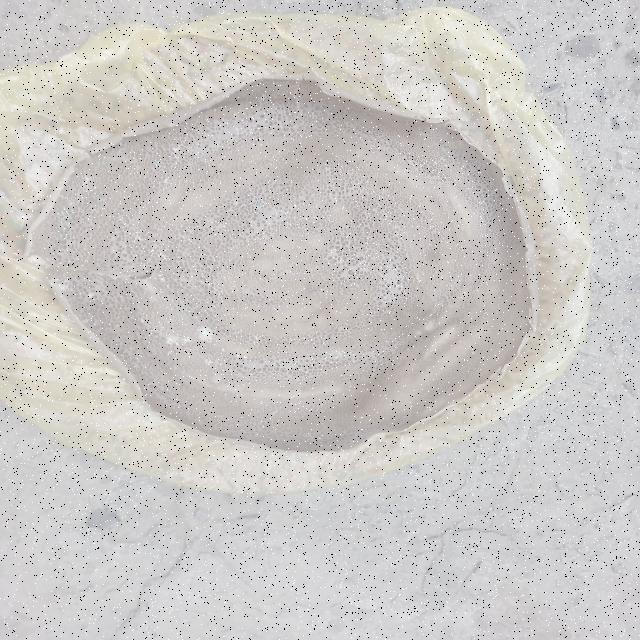injera_mold: (133, 319, 171, 332), (51, 274, 72, 293), (298, 433, 326, 446), (166, 334, 192, 347), (247, 333, 268, 349), (196, 326, 215, 343), (80, 174, 96, 193), (130, 228, 145, 242), (256, 92, 272, 104), (169, 145, 181, 159), (81, 318, 99, 326), (57, 248, 73, 256), (93, 157, 109, 165), (157, 178, 171, 186), (66, 197, 78, 206), (95, 196, 107, 205), (152, 160, 164, 169), (330, 350, 343, 358), (253, 200, 265, 207), (59, 213, 69, 221), (190, 159, 198, 168), (310, 112, 318, 121), (204, 359, 215, 365), (59, 222, 67, 230), (439, 156, 447, 164), (268, 412, 278, 418), (262, 172, 270, 178), (482, 311, 490, 316), (68, 186, 76, 191), (471, 350, 477, 356), (152, 334, 159, 339), (88, 294, 95, 299), (318, 404, 324, 409), (161, 277, 166, 283), (73, 175, 79, 179), (235, 354, 240, 358), (167, 351, 172, 355), (221, 348, 225, 352), (166, 284, 170, 288)
